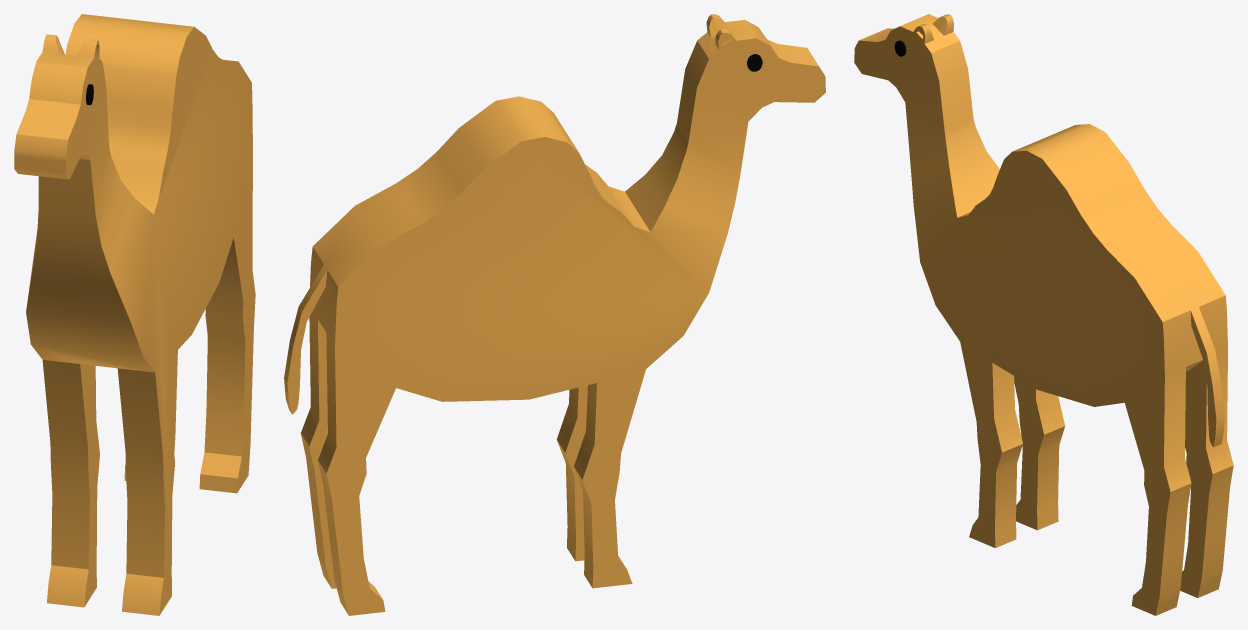
Rendered from camel.fbx.
The picture shows the model from 3 angles, left to right: view 1: azimuth 30°, elevation 25°; view 2: azimuth 150°, elevation 25°; view 3: azimuth 270°, elevation 25°; orthographic projection. The views are drawn at different scales.
Parts seen in each view (by area): view 1: Plane.126; view 2: Plane.126; view 3: Plane.126.
Boxes of the visible parts, <box> form: Plane.126: <box>14,14,255,615</box>; Plane.126: <box>284,14,825,615</box>; Plane.126: <box>854,14,1233,615</box>.
Size of the model in its own units: 153 by 211 by 153.
1 material, 1 textured.
